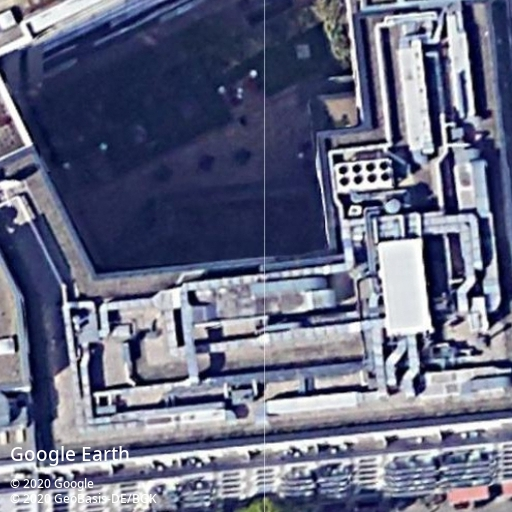Chiller: (334, 158, 396, 194)
